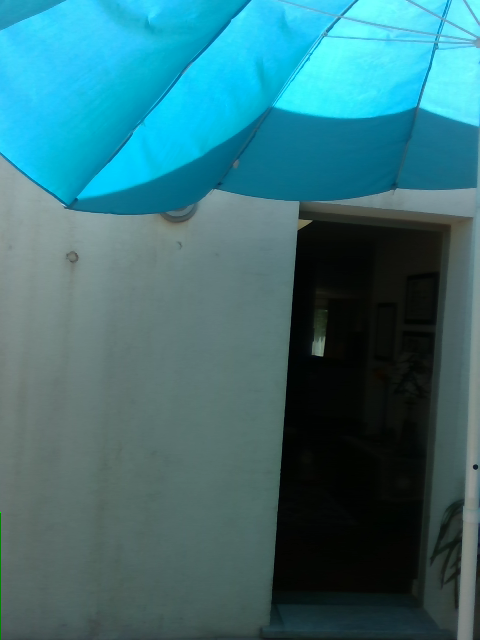open: (300, 205, 479, 626)
